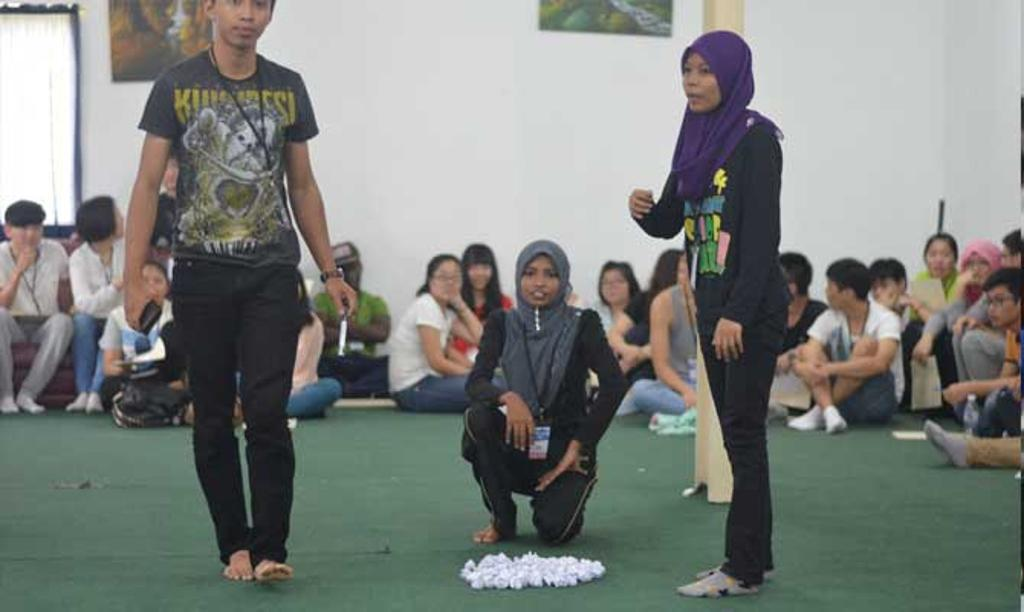face: (214, 1, 272, 47), (682, 55, 727, 111), (523, 257, 562, 305), (10, 221, 42, 255), (432, 266, 463, 300), (988, 291, 1018, 326), (927, 243, 955, 278), (139, 272, 166, 306), (600, 274, 629, 302), (872, 278, 900, 305), (966, 254, 989, 286), (332, 263, 359, 290), (467, 262, 492, 290), (826, 281, 850, 310), (104, 209, 124, 239), (671, 263, 692, 291), (1002, 249, 1020, 278)
